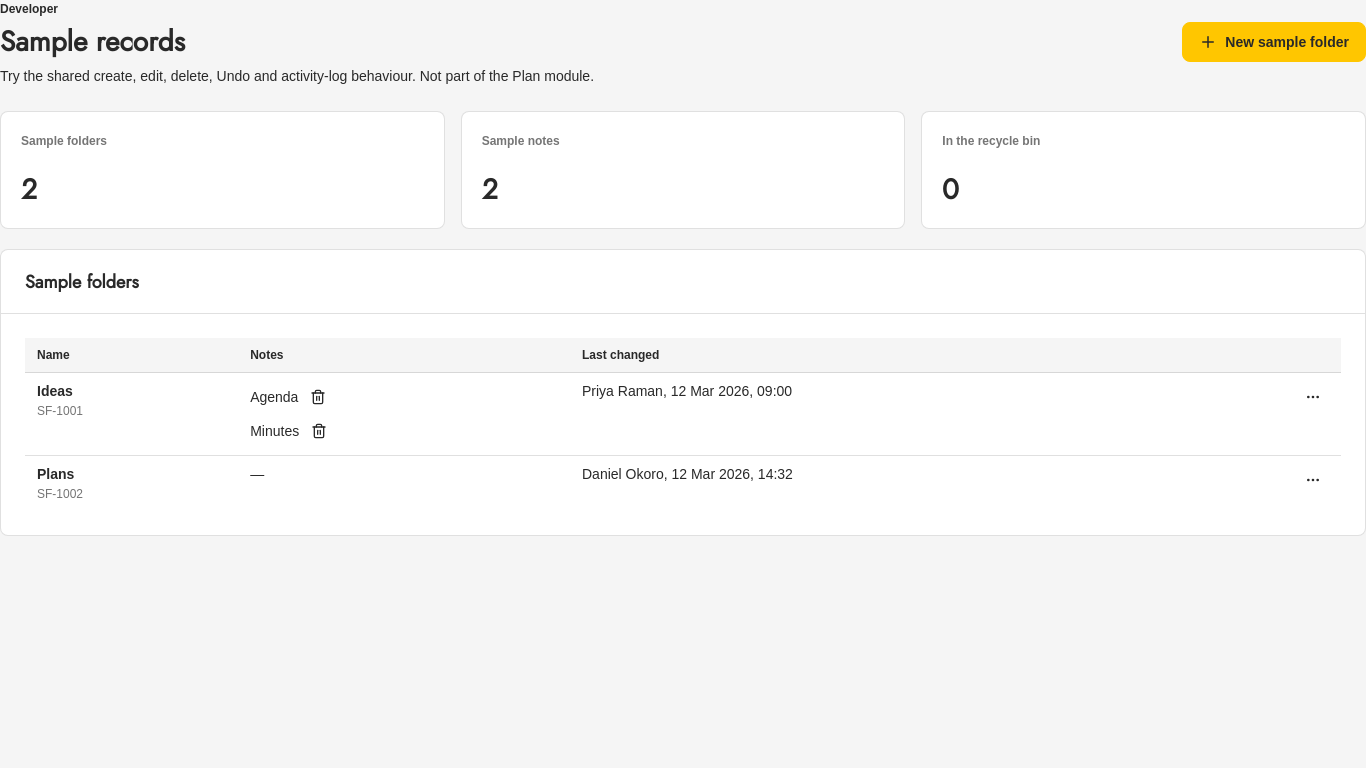
Test: SampleRecordsPage: delete, Undo and restore › keeps the folder when the delete is cancelled (design system §6.5)
The image size is (1366, 768).
Expected: the element "Sample folders" is shown, 0,249 -> 1365,536
Click the button named "Actions for Ideas" at (1313, 397), box 1297,381 -> 1329,413
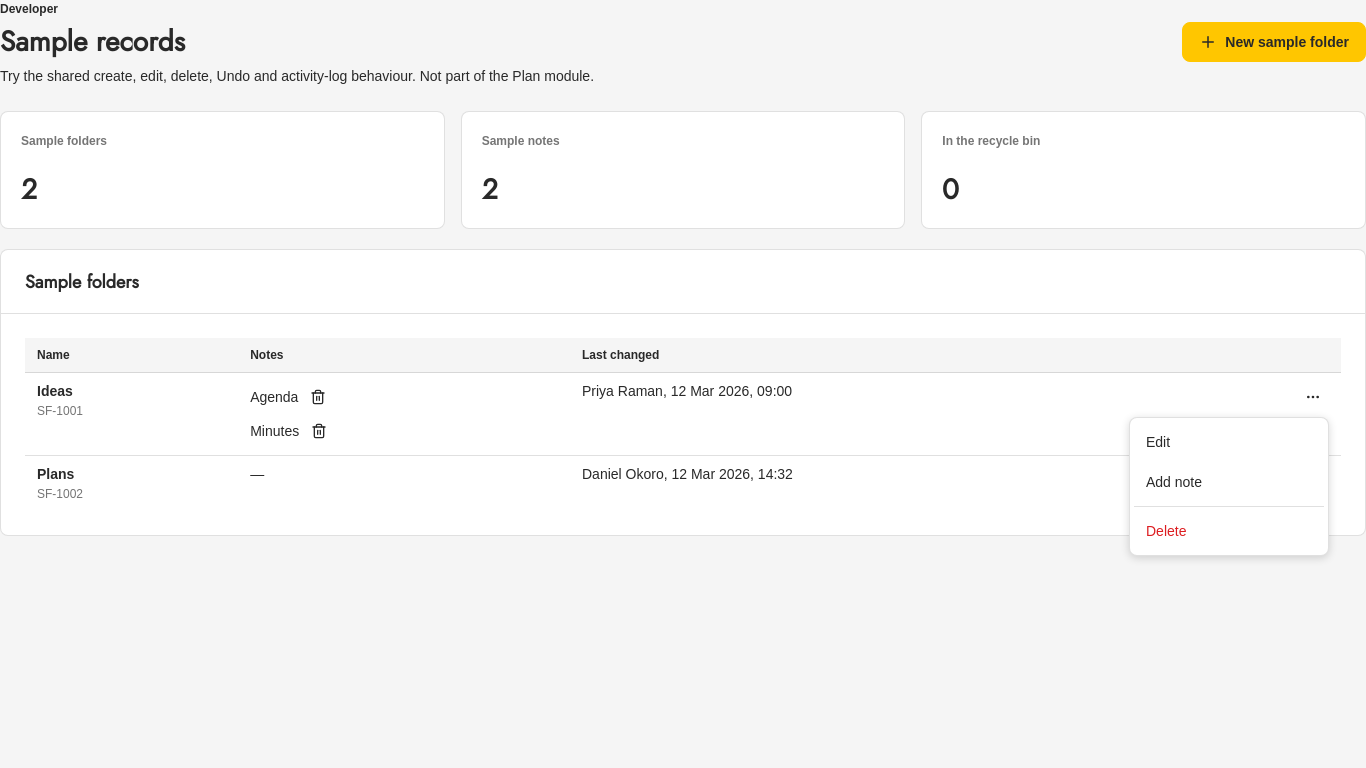
Click the menu item "Delete" at (1166, 531), box 1146,523 -> 1186,539
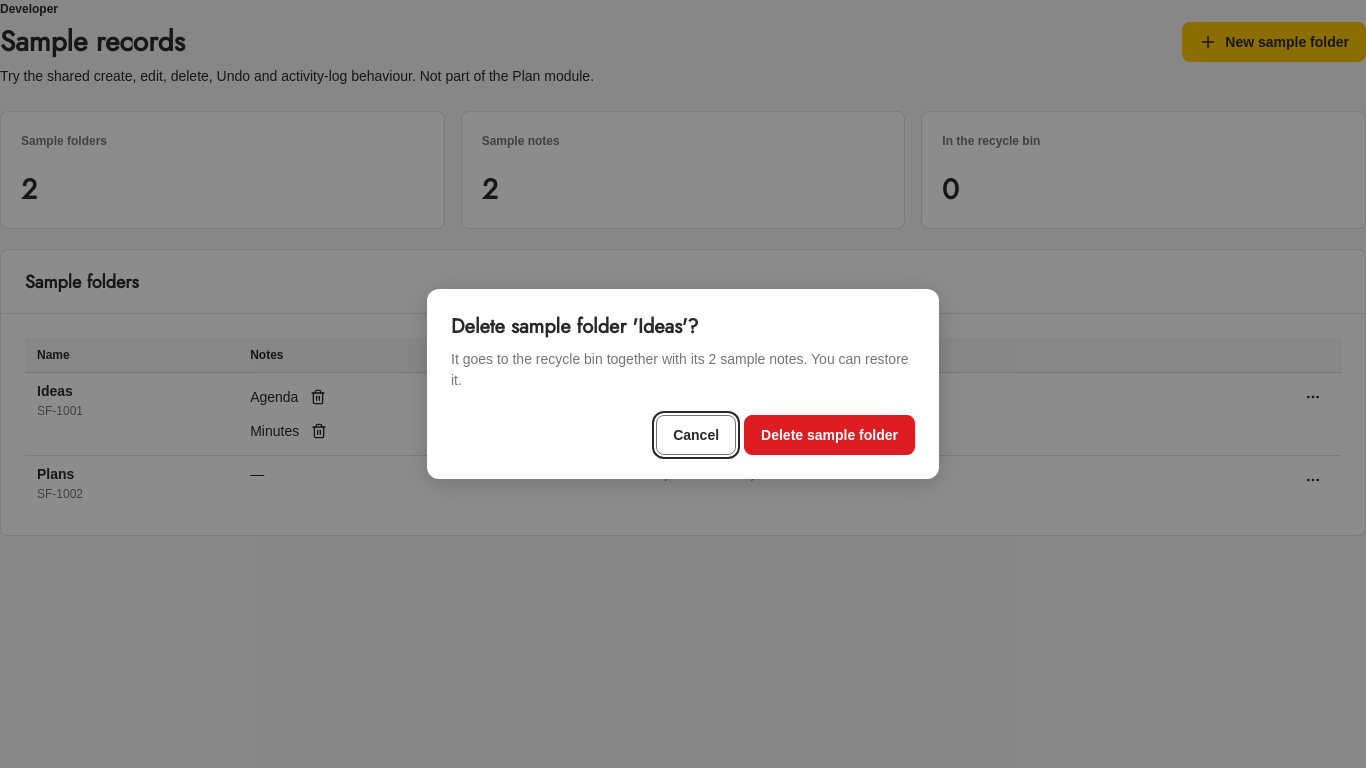
Click the button "Cancel" at (696, 435), box 656,415 -> 736,455
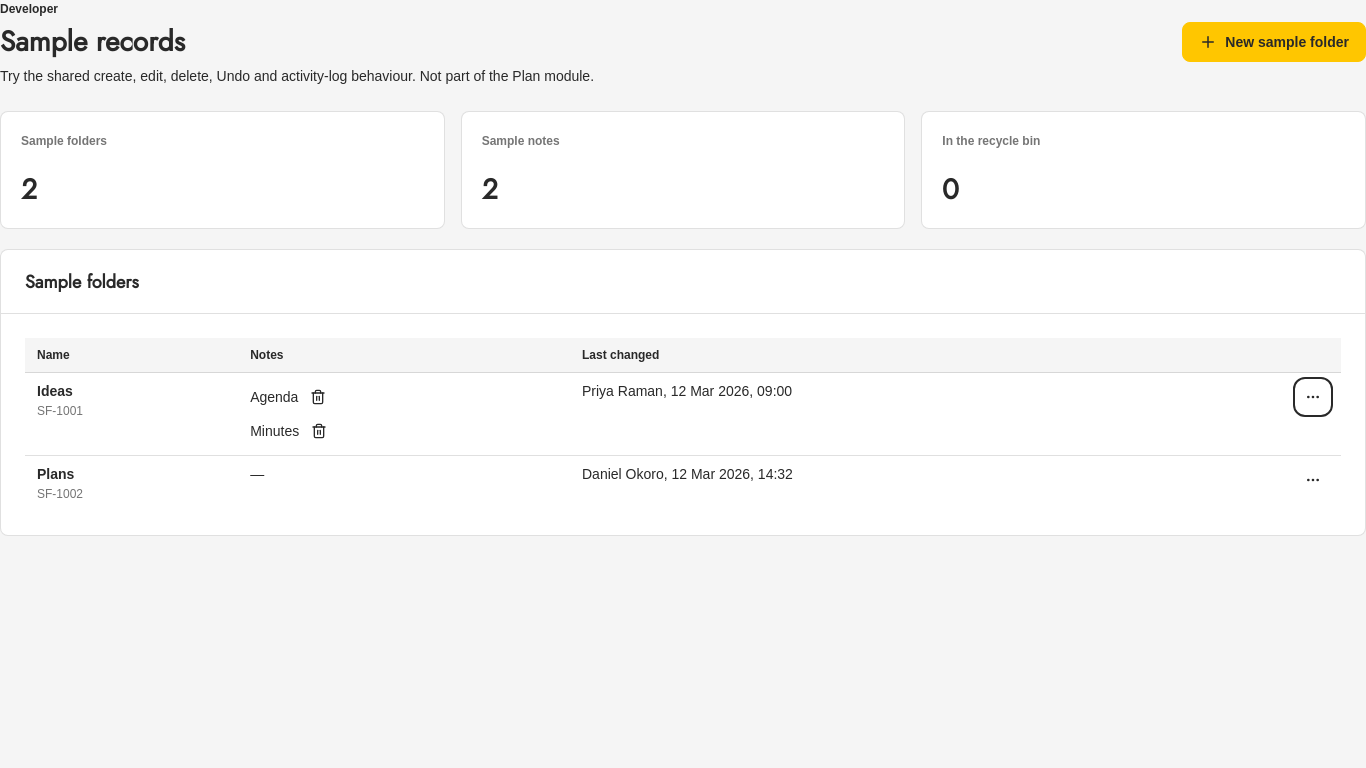
Result: the dialog is gone
